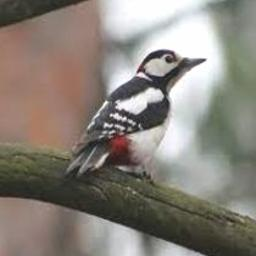Woodpecker: (66, 50, 208, 184)
